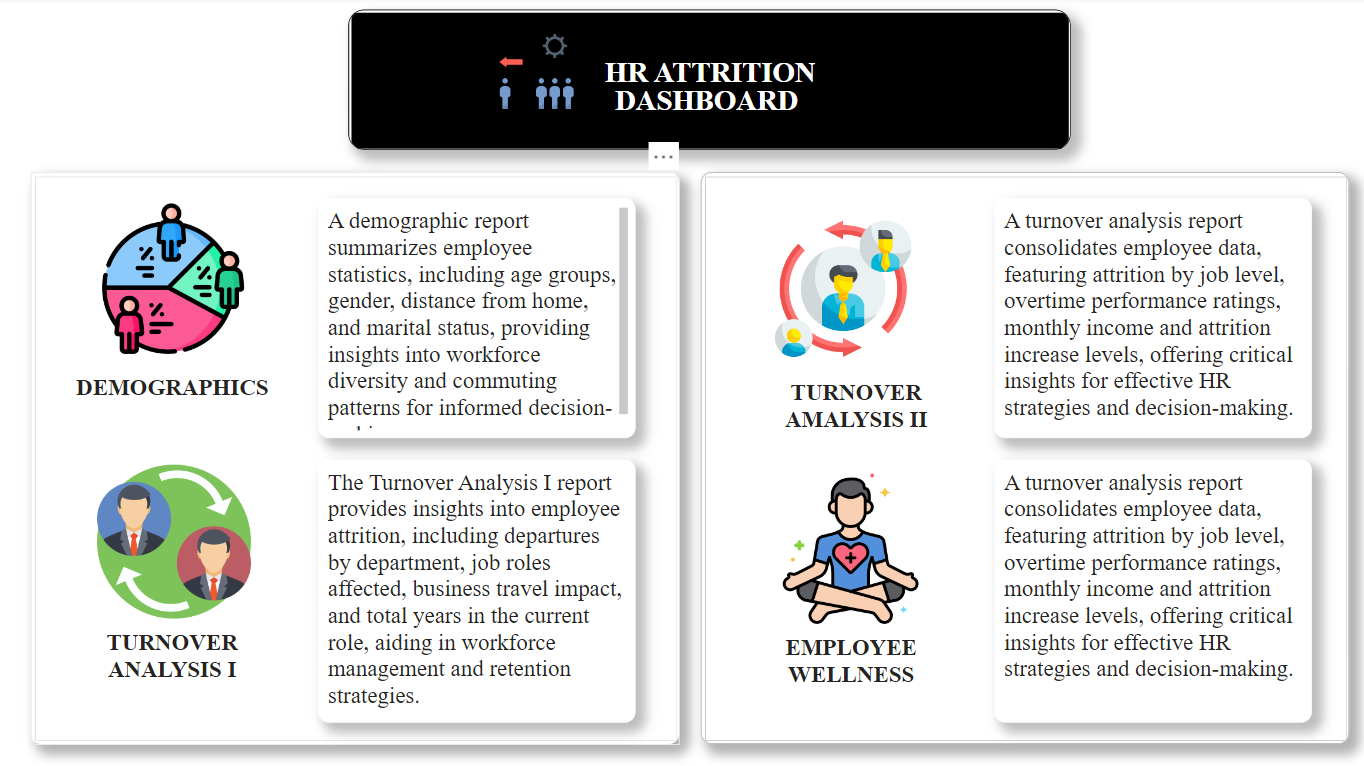

The page's visual inventory and layout, read from the dashboard file:
{"tool":"powerbi","page":{"name":"Page 1","canvas":[1280,720],"ordinal":0},"visuals":[{"type":"shape","title":"DAS","box":[326.7,11.7,671.7,130],"z":0},{"type":"textbox","title":"DASHBOARD","box":[570,81.7,235,31.7],"z":1000},{"type":"shape","box":[333.3,131.7,658.3,13.3],"z":2000},{"type":"shape","box":[31.7,163.3,603.3,531.7],"z":3000},{"type":"shape","box":[655,163.3,603.3,531.7],"z":4000},{"type":"textbox","box":[298.3,186.7,295,223.3],"z":5000},{"type":"textbox","box":[298.3,430,295,245],"z":6000},{"type":"textbox","box":[928.3,186.7,295,223.3],"z":7000},{"type":"textbox","box":[68.3,346.7,206.7,41.7],"z":8000},{"type":"image","box":[16.7,186.7,295,150],"z":9000},{"type":"textbox","box":[66.7,583.3,193.3,63.3],"z":10000},{"type":"image","box":[41.7,430,245,153.3],"z":11000},{"type":"textbox","box":[928.3,430,295,245],"z":12000},{"type":"textbox","box":[715,351.7,168.3,73.3],"z":13000},{"type":"textbox","box":[690,588.3,210,70],"z":14000},{"type":"image","box":[646.7,438.3,295,150],"z":15000},{"type":"image","box":[640,196.7,295,150],"z":16000},{"type":"image","box":[381.7,25,240,90],"z":17000}]}

Visuals, with their boxes in screenshot pixels (x1, y1, x2, y2), scaled from the page's 1280x720 canvas onto the 1364x766 screenshot:
"DAS" shape: 348:12:1064:151
"DASHBOARD" textbox: 607:87:858:121
shape: 355:140:1057:154
shape: 34:174:677:739
shape: 698:174:1341:739
textbox: 318:199:632:436
textbox: 318:457:632:718
textbox: 989:199:1304:436
textbox: 73:369:293:413
image: 18:199:332:358
textbox: 71:621:277:688
image: 44:457:306:621
textbox: 989:457:1304:718
textbox: 762:374:941:452
textbox: 735:626:959:700
image: 689:466:1003:626
image: 682:209:996:369
image: 407:27:662:122
